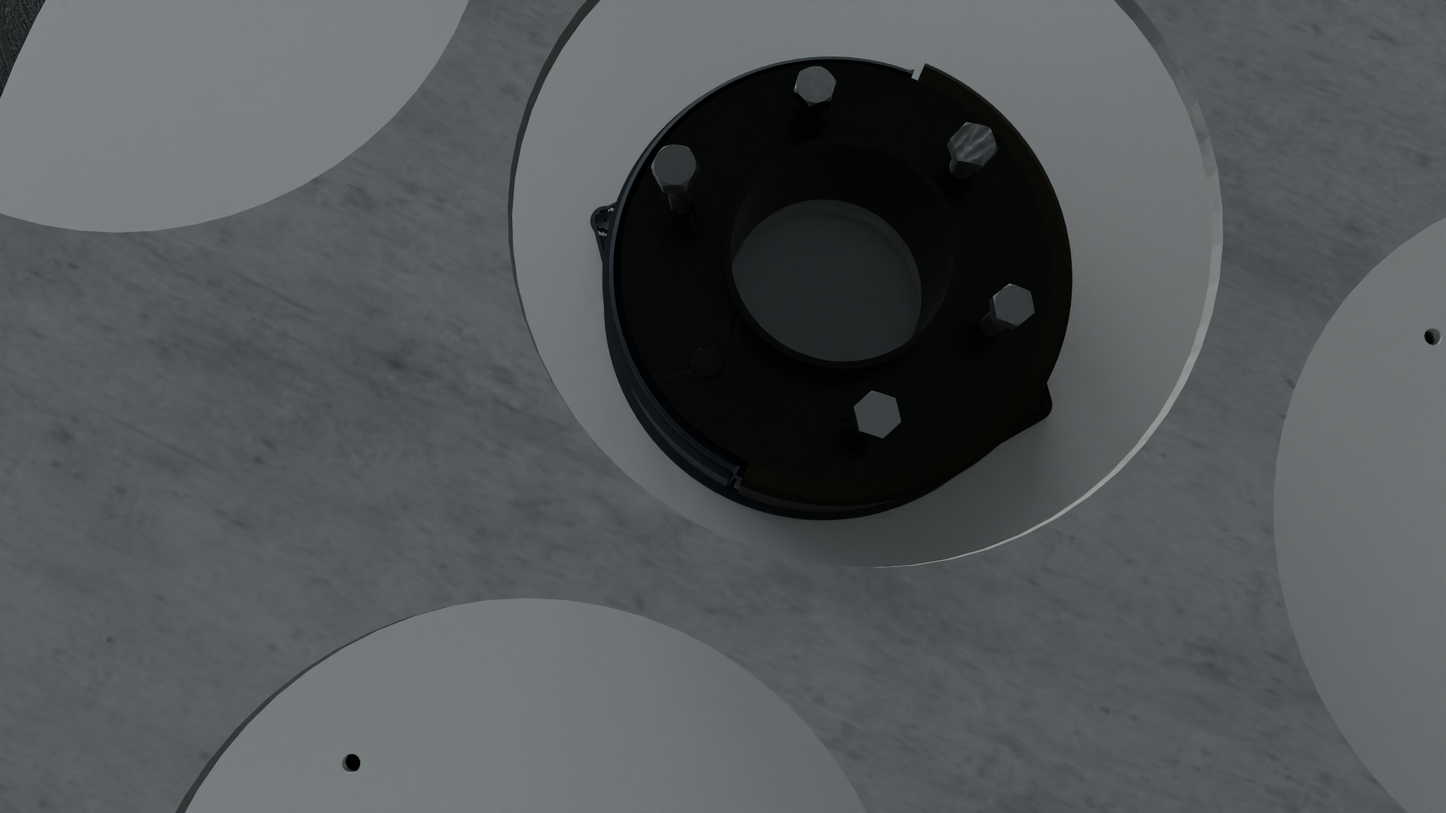bolt: (853, 391, 901, 439), (950, 122, 998, 166), (651, 145, 699, 187), (993, 284, 1035, 326), (794, 66, 837, 107), (691, 347, 725, 377)
